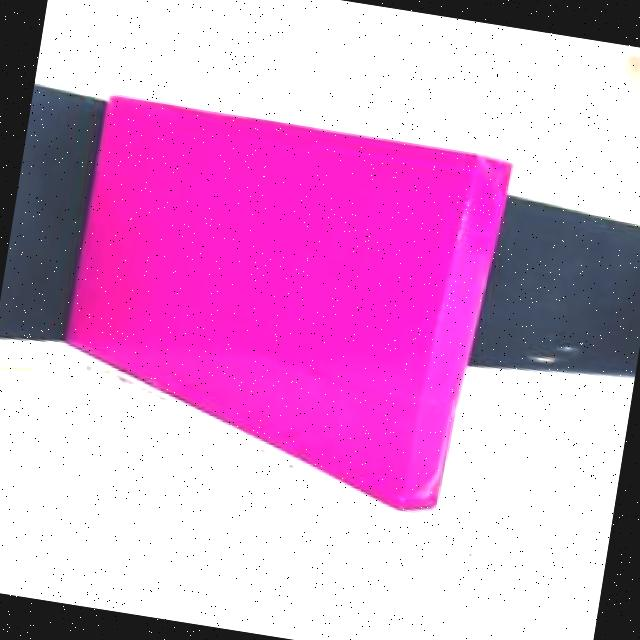xparking: (54, 102, 488, 469)
